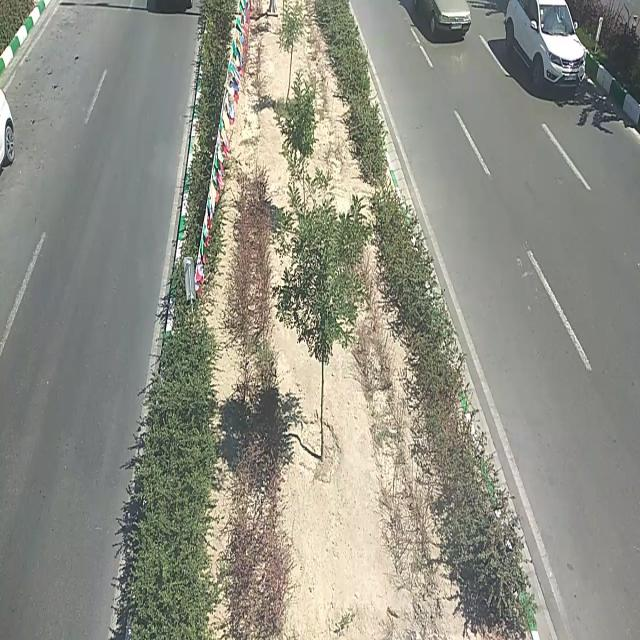car: (505, 0, 588, 92), (411, 5, 473, 42)
